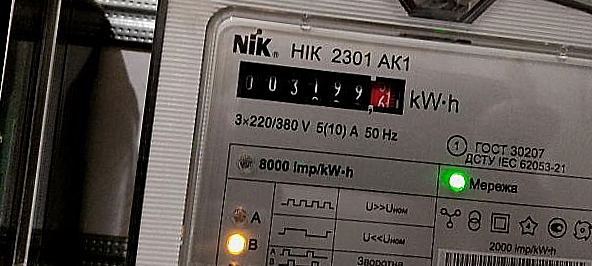0: (265, 73, 278, 93), (242, 71, 253, 90)
1: (309, 76, 320, 95)
3: (286, 76, 299, 97)
6: (374, 92, 386, 107)
9: (330, 77, 342, 98), (351, 82, 364, 101)
screen: (226, 48, 414, 125)
